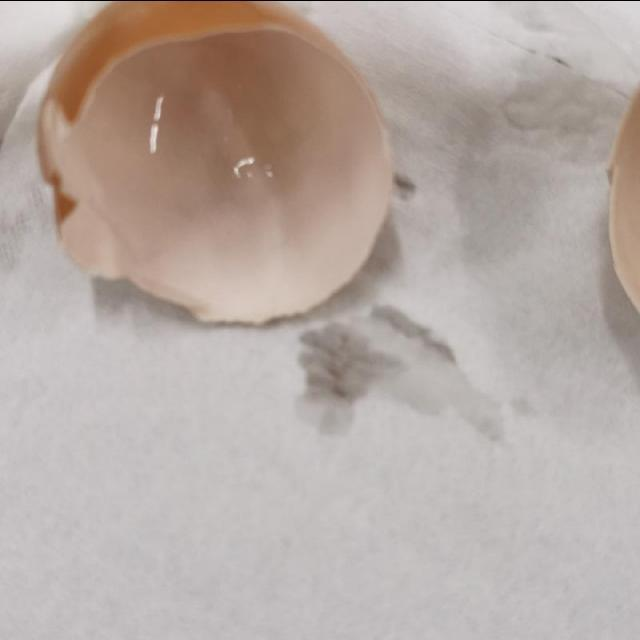egg shell: (39, 7, 396, 326), (611, 86, 640, 312)
